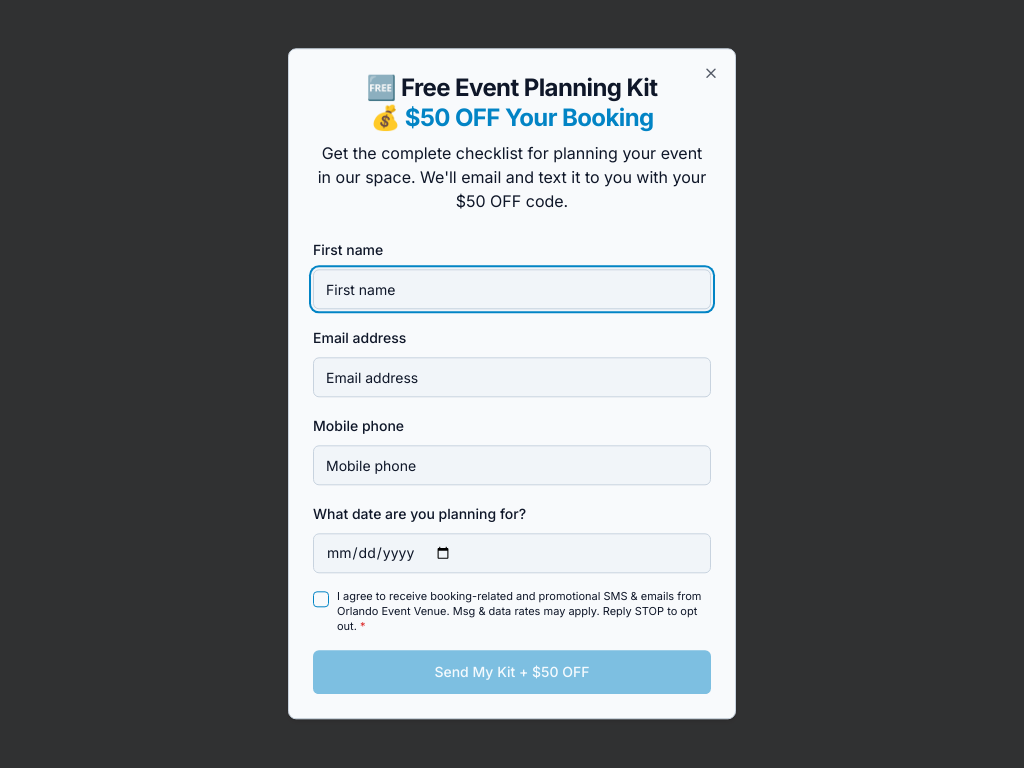
Test: DiscountPopup submit › saves a new lead as anon, then syncs GHL, sends email 1 and reports the Lead
This screenshot has width=1024, height=768.
Type "Test" into the field labelled "First name".
click(512, 289); type("Test")  # box [313,269,711,309]
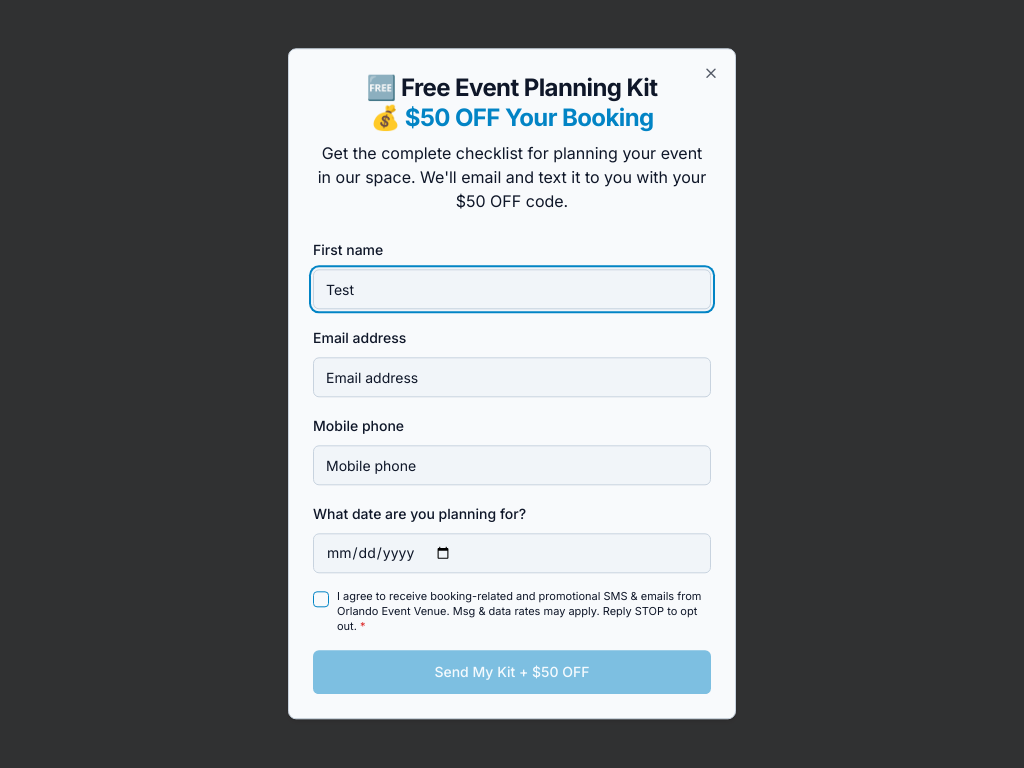
Type "Guest@Example.com" into the field labelled "Email address".
click(512, 377); type("Guest@Example.com")  # box [313,357,711,397]
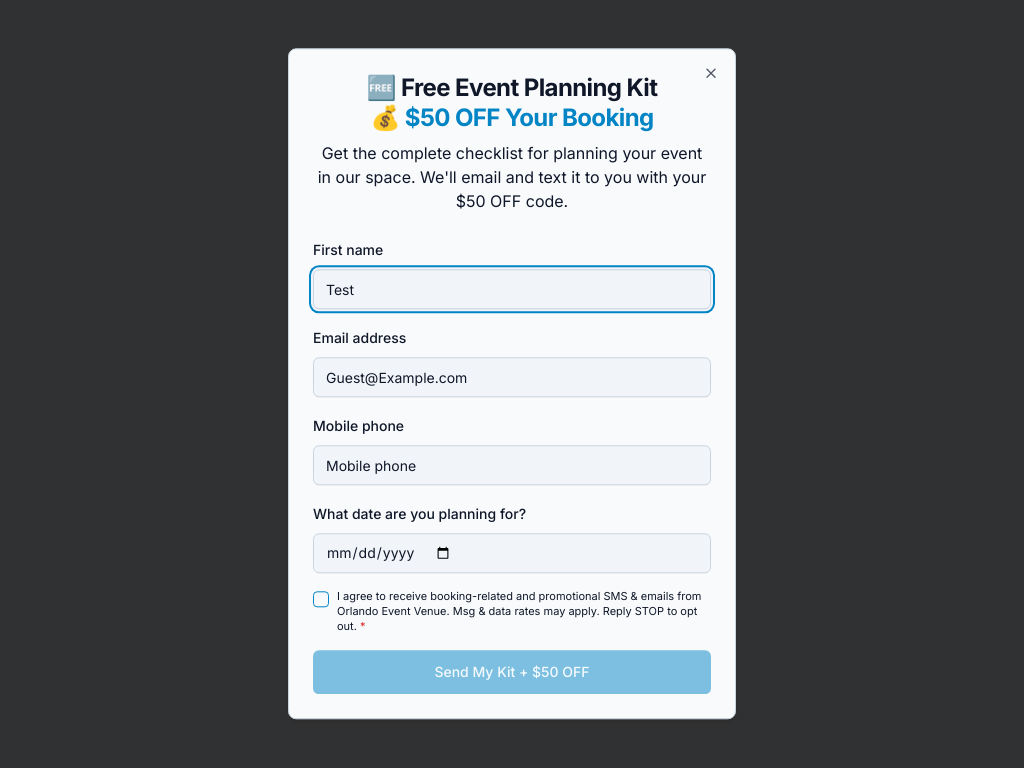
Type "4075551212" into the field labelled "Mobile phone".
click(512, 465); type("4075551212")  # box [313,445,711,485]
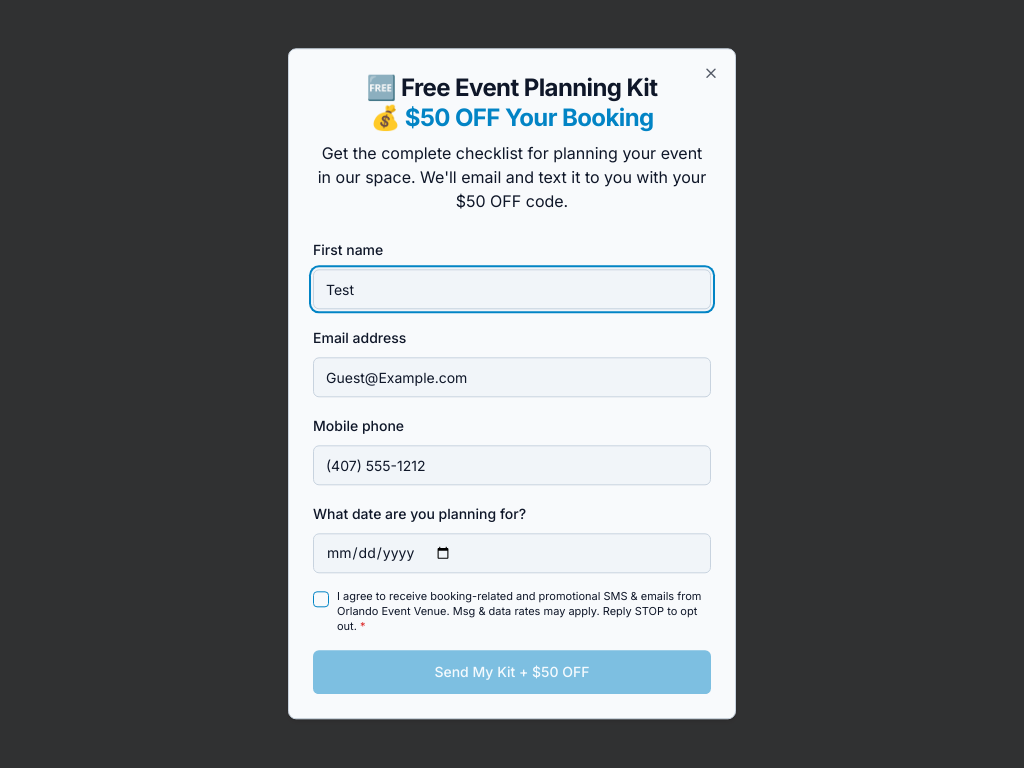
Type "2027-03-10" into the date field labelled "What date are you planning for?".
click(512, 553); type("2027-03-10")  # box [313,533,711,573]
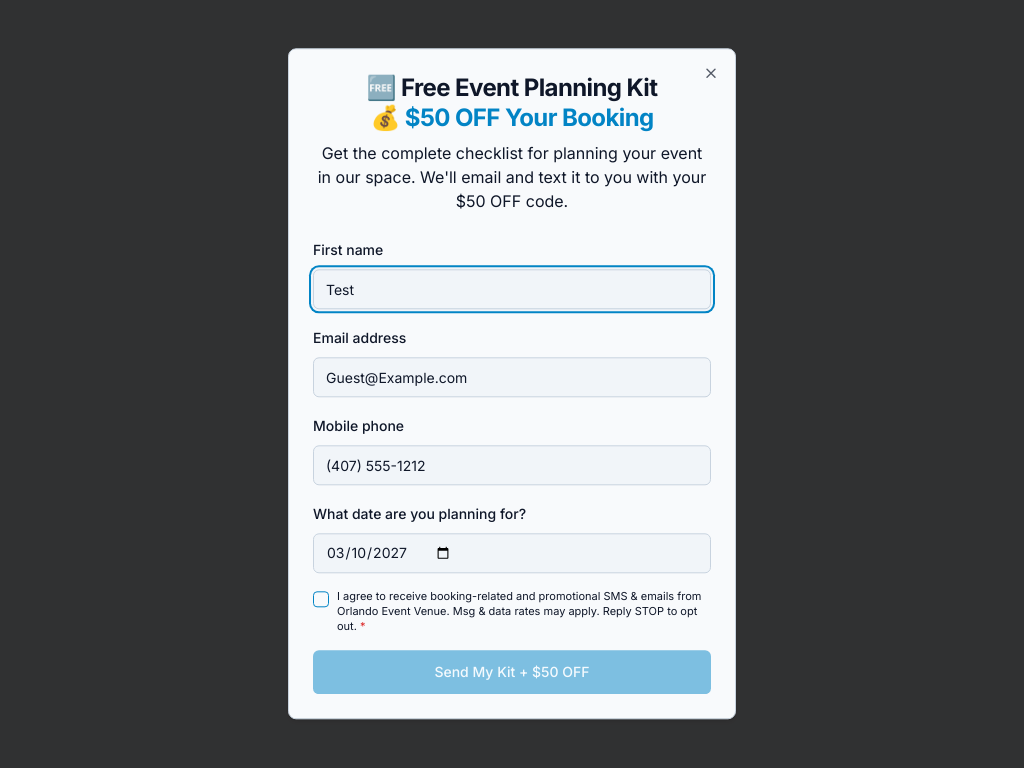
Submit the form, box [313,237,711,695]
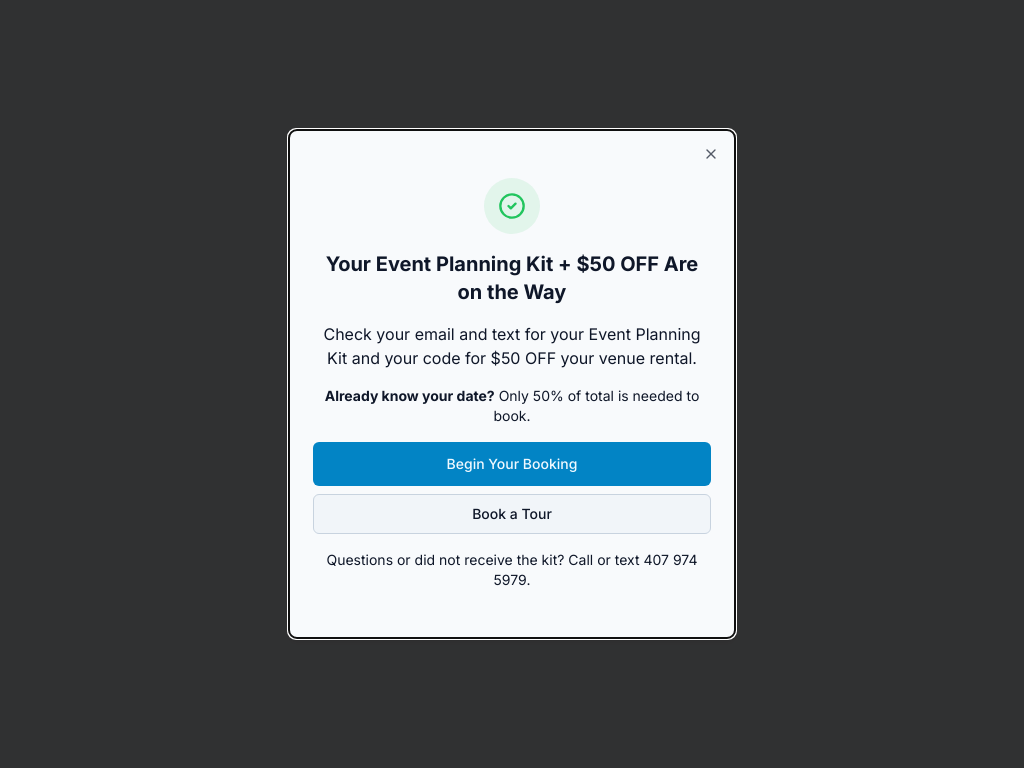
Now the heading "Your Event Planning Kit + $50 OFF Are on the Way" is shown, box [313,250,711,306]
